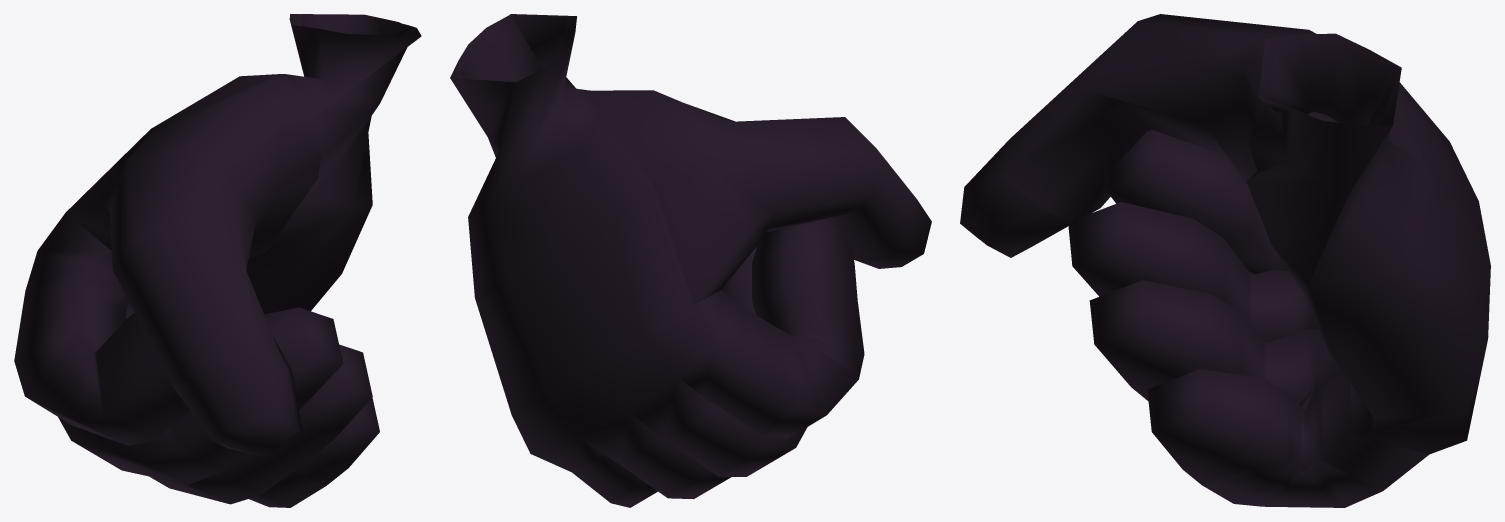
File: trickster_mano.obj
The picture shows the model from 3 angles, left to right: view 1: azimuth 30°, elevation 25°; view 2: azimuth 150°, elevation 25°; view 3: azimuth 270°, elevation 25°; orthographic projection. The views are drawn at different scales.
Parts seen in each view (by area): view 1: Mano; view 2: Mano; view 3: Mano.
Boxes of the visible parts, x1,y1,x2,y2 form: Mano: (14, 14, 421, 507); Mano: (450, 14, 931, 507); Mano: (960, 14, 1490, 507).
Size of the model in its own units: 0.2779 by 0.324 by 0.3002.
1 material, 1 textured.
